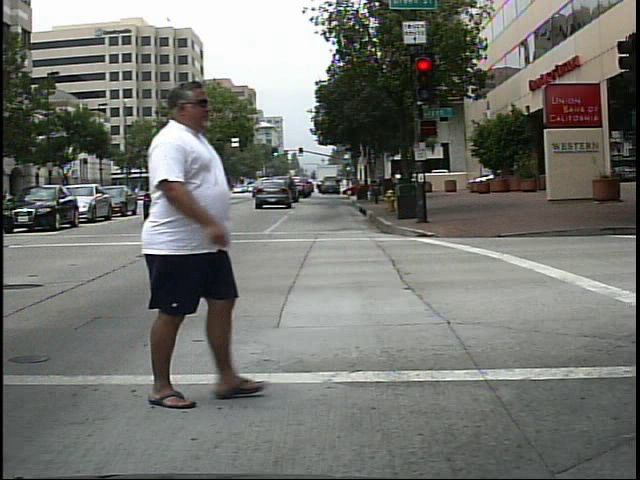person: (91, 78, 260, 414)
